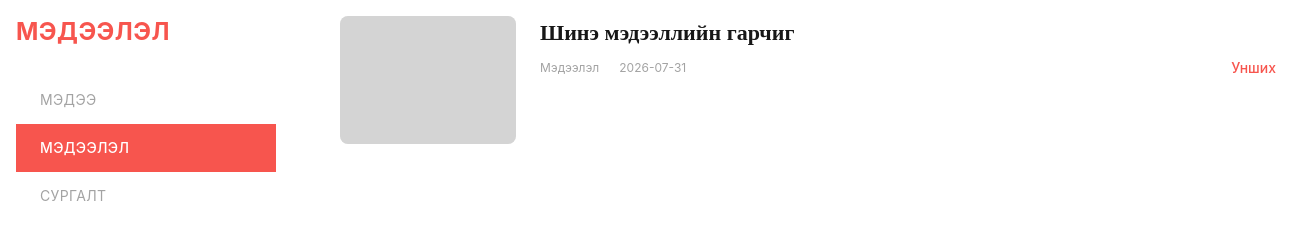
Test: NewsGrid › renders the information submenu and API-backed article list
Expected: the navigation bar named "Мэдээллийн дэд цэс" reads "Мэдээ Мэдээлэл Сургалт", [16,76,276,220]
Expected: the link "Шинэ мэдээний гарчиг" is not shown
Click the button "Мэдээ" at [68, 100], box [16,76,276,124]
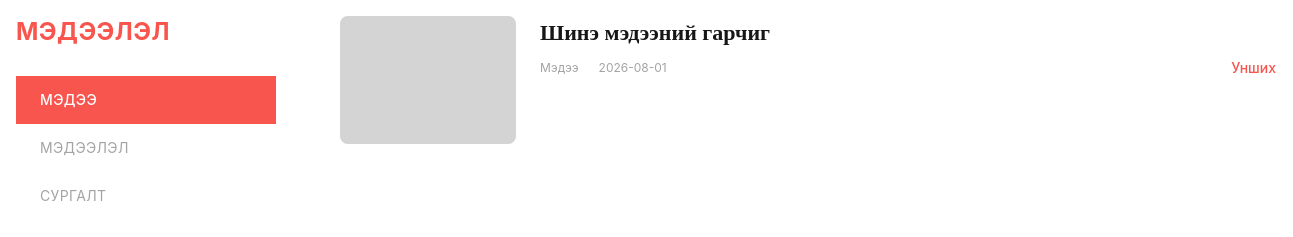
Expected: the link "Шинэ мэдээний гарчиг" is shown, [540,20,770,45]
Expected: the link "Шинэ мэдээллийн гарчиг" is gone
Click the button "Сургалт" at [73, 196], box [16,172,276,220]
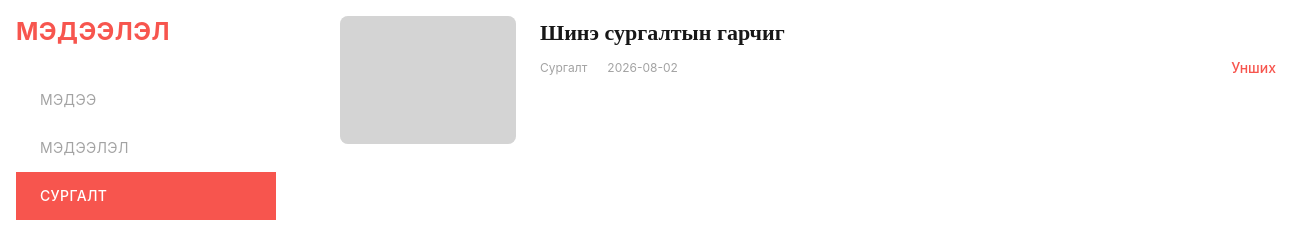
Expected: the link "Шинэ сургалтын гарчиг" is shown, [540,20,785,45]
